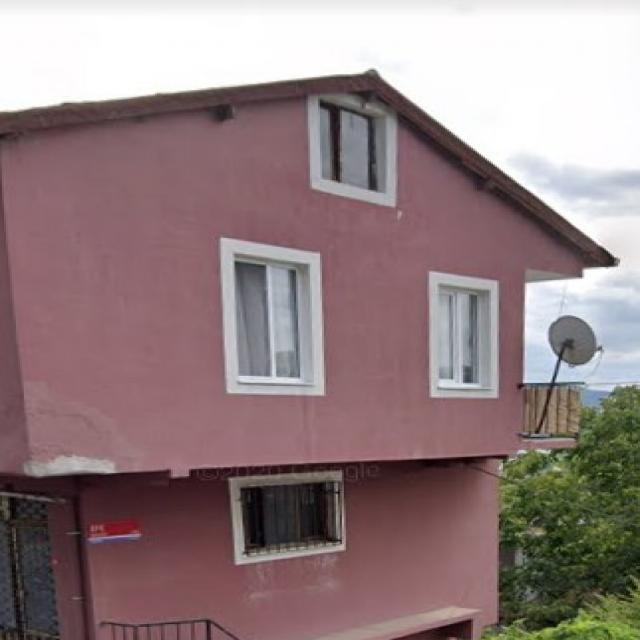Building: (0, 71, 618, 640)
